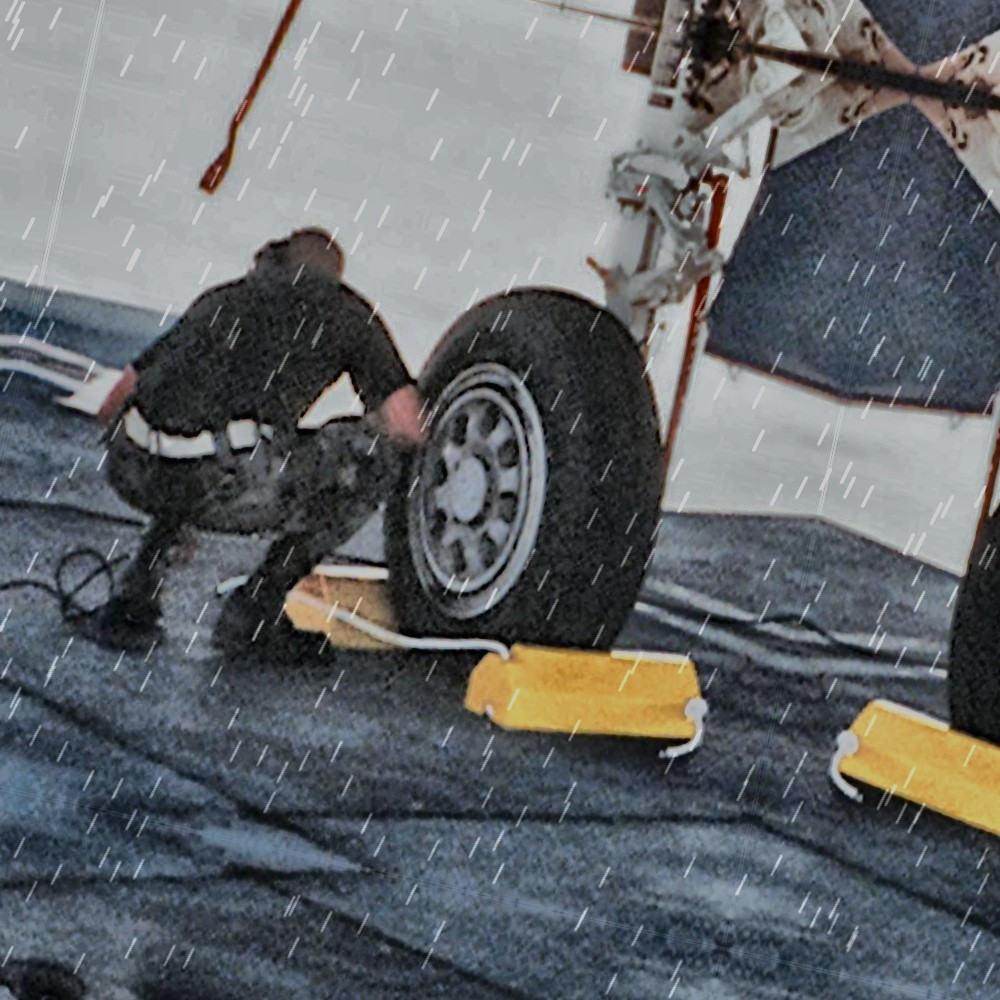chock: (456, 609, 725, 779), (817, 689, 1000, 859), (267, 548, 493, 680)
wheel: (351, 262, 701, 688)
